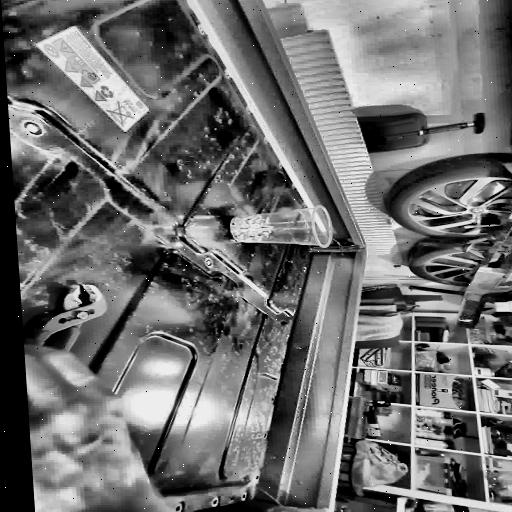b_casing: (0, 0, 321, 512)
